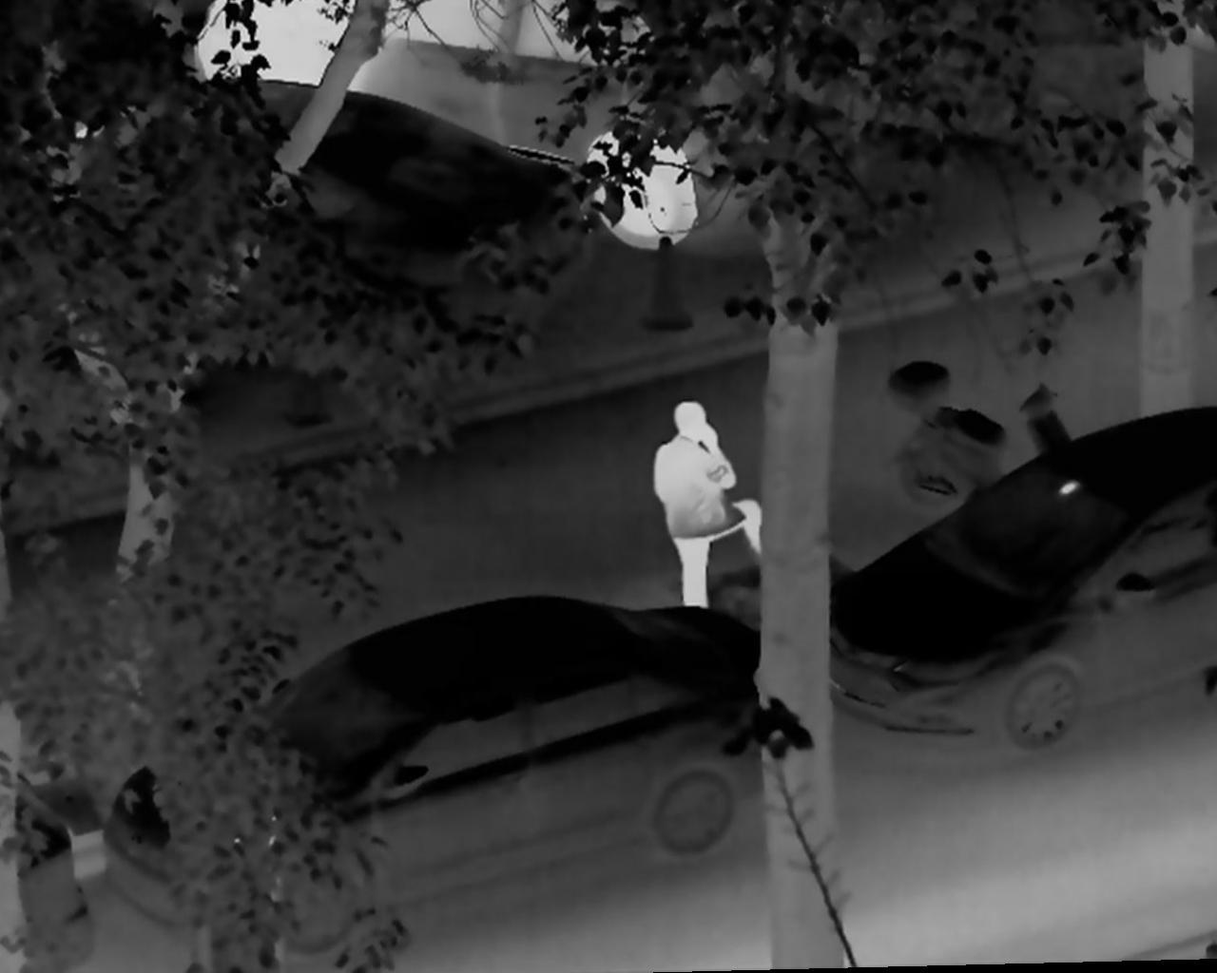person: (644, 393, 766, 618)
